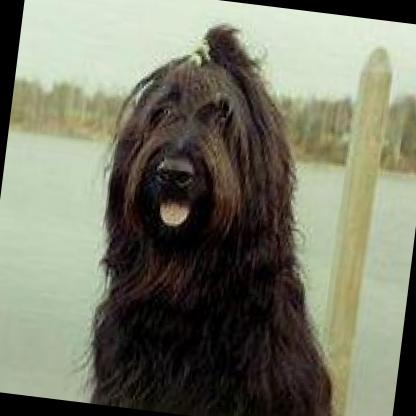briard: (51, 0, 392, 416)
